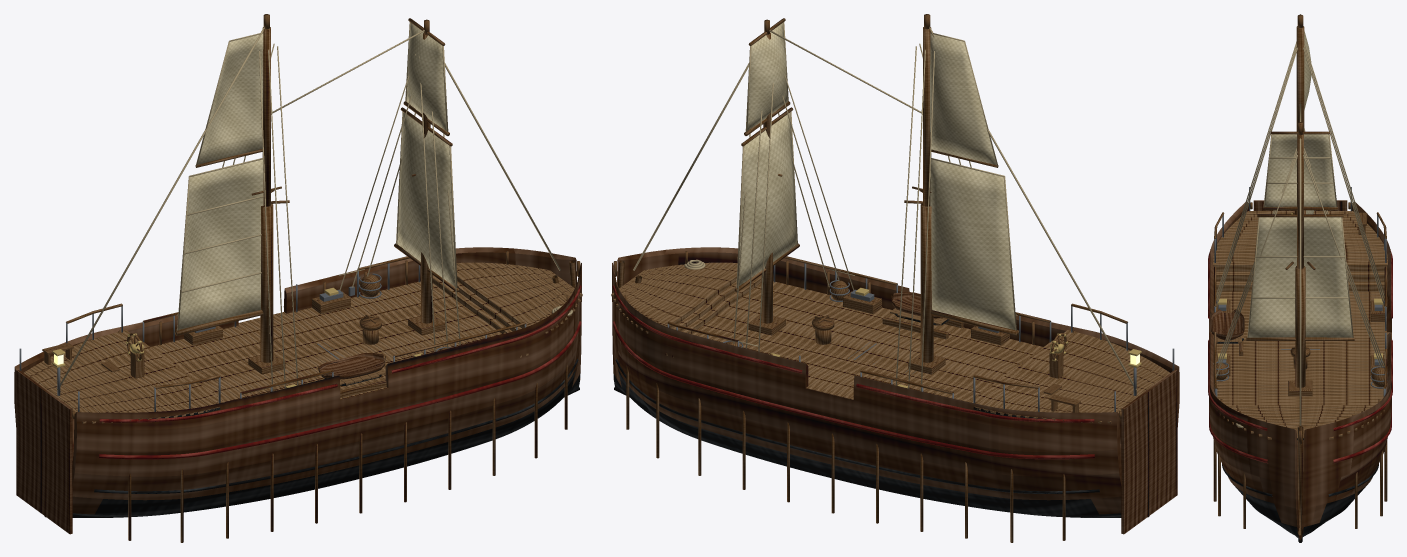
Rendered from brigantine_v2.glb.
3 renders of one model, left to right at view 1: azimuth 30°, elevation 25°; view 2: azimuth 150°, elevation 25°; view 3: azimuth 270°, elevation 25°, orthographic. The views are drawn at different scales.
Parts seen in each view (by area): view 1: SM_Brigantine; view 2: SM_Brigantine; view 3: SM_Brigantine.
Part boxes in pixels (left/top/right/bottom): SM_Brigantine: left=14, top=14, right=582, bottom=542; SM_Brigantine: left=611, top=14, right=1179, bottom=542; SM_Brigantine: left=1208, top=14, right=1392, bottom=542.
Size of the model in its own units: 20.13 by 17.09 by 6.87.
Materials: 10 (6 with a texture image).
